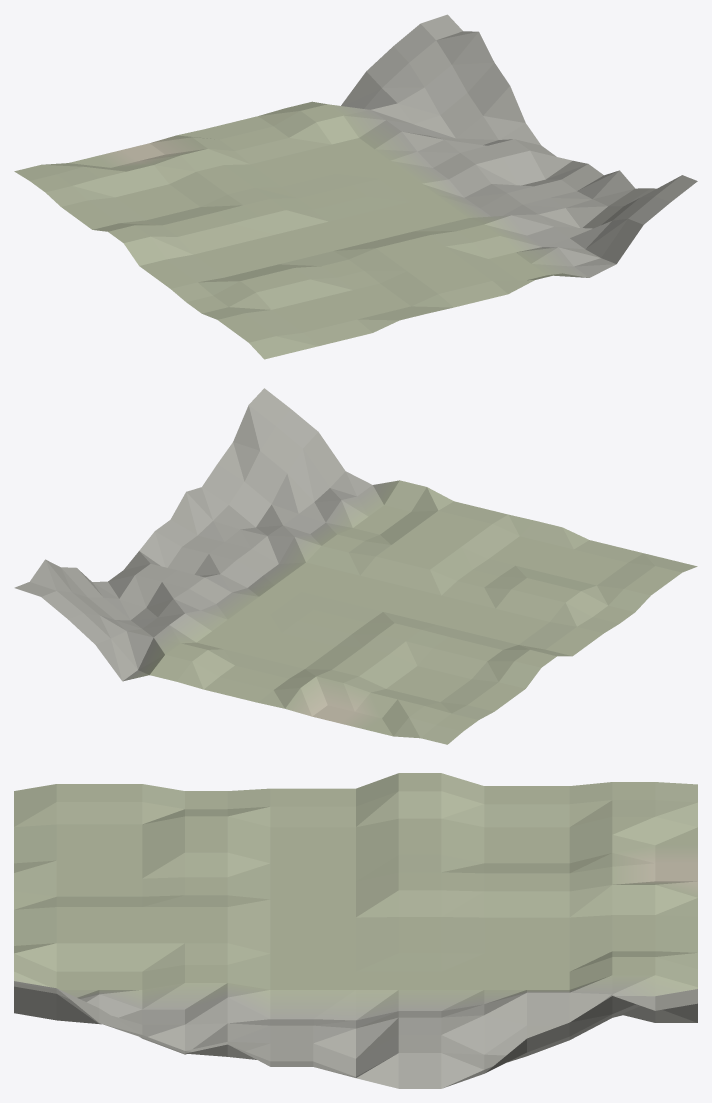
3 renders of one model, top to bottom at view 1: azimuth 30°, elevation 25°; view 2: azimuth 150°, elevation 25°; view 3: azimuth 270°, elevation 25°, orthographic. The views are drawn at different scales.
Size of the model in its own units: 32 by 5.9 by 32.
